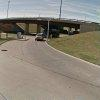Bridge: (4, 6, 92, 34)
